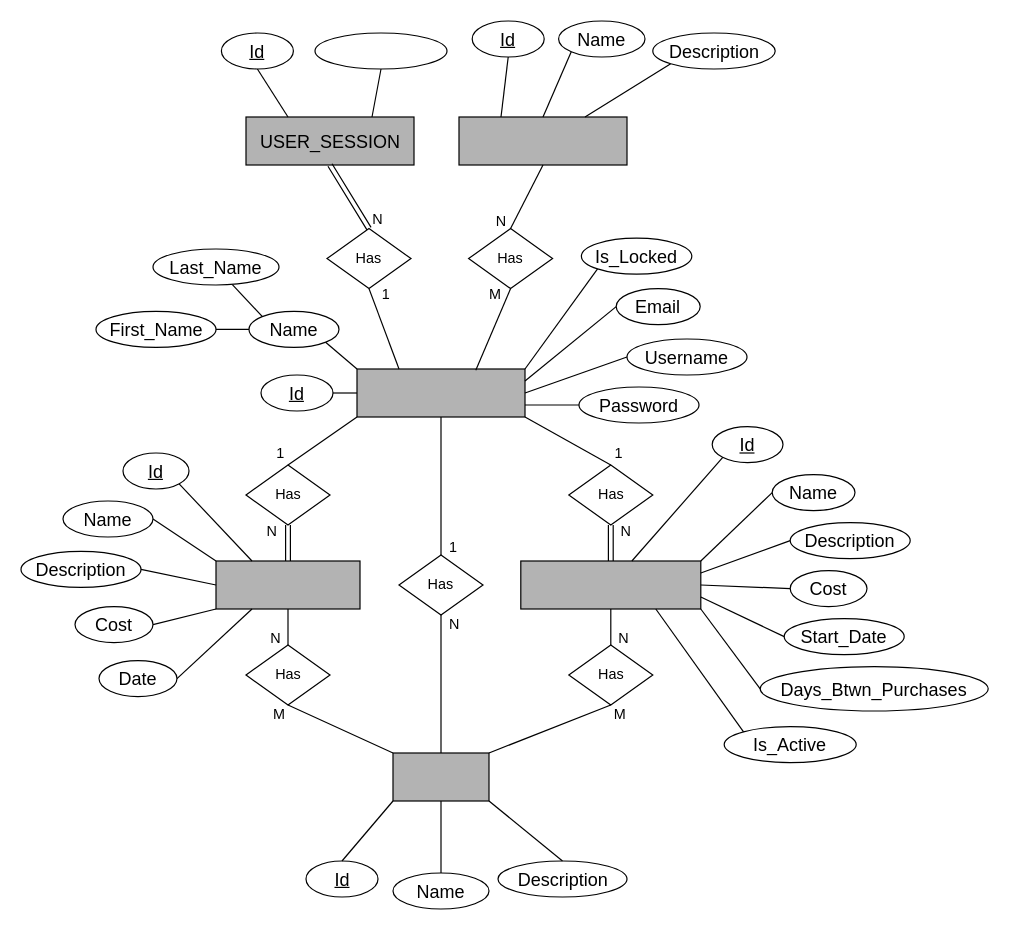
Some shapes in this 1009 by 930 pixel diagram are drawn without their labels. The shapes that lost their labels are listed below. From the top down, each one's box as (x1, y1, x2, y2) in pixels, then its label:
(314, 32, 447, 69): Expires_At
(458, 116, 627, 165): PERMISSION
(356, 368, 525, 417): USER_ACCOUNT
(215, 560, 360, 609): PURCHASE
(520, 560, 701, 609): SUBSCRIPTION
(392, 752, 489, 801): LABEL
